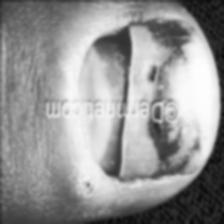Toxin: (85, 20, 210, 171)
